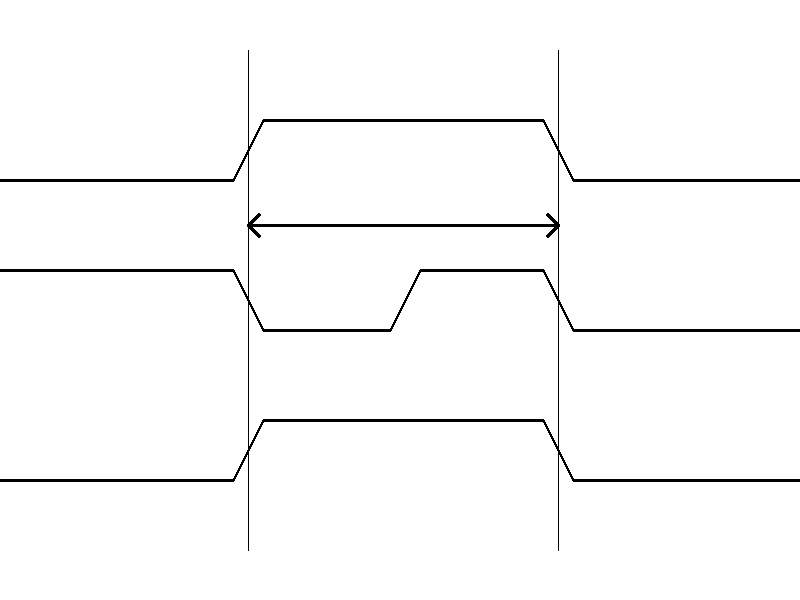double_arrow: (248, 210, 558, 240)
